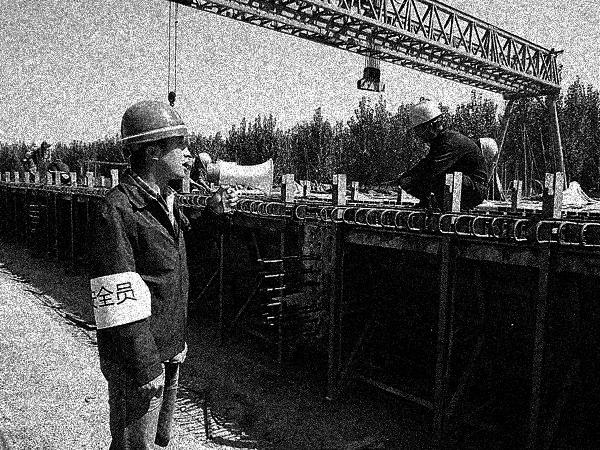helmet: (120, 99, 196, 181), (407, 102, 443, 145), (473, 135, 499, 164), (193, 151, 213, 171)
